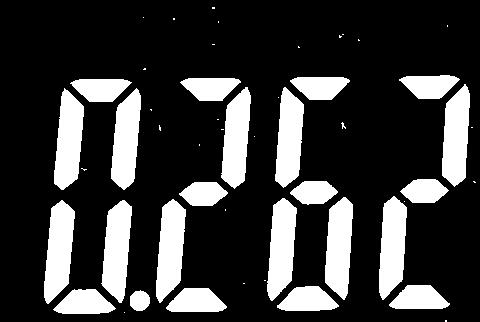0: (39, 76, 142, 316)
2: (155, 76, 254, 312), (376, 71, 472, 310)
6: (265, 75, 356, 313)
dot: (128, 287, 152, 312)
